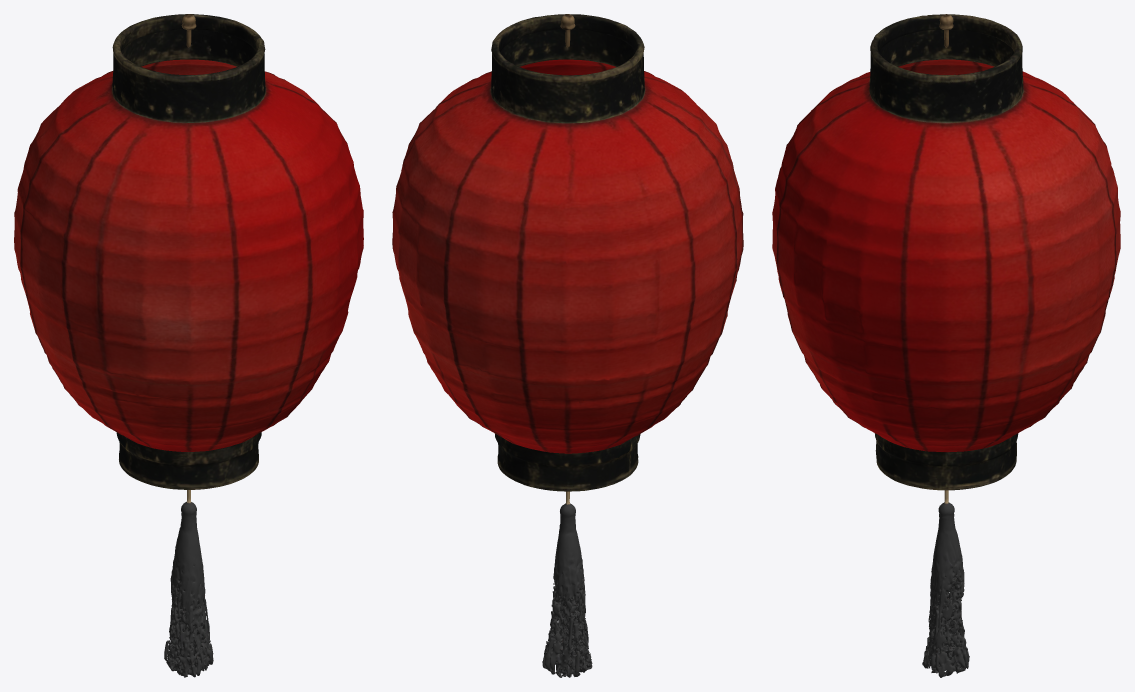
3 views of the same model, side by side, from view 1: azimuth 30°, elevation 25°; view 2: azimuth 150°, elevation 25°; view 3: azimuth 270°, elevation 25° (orthographic).
Parts seen in each view (by area): view 1: geometry_0; view 2: geometry_0; view 3: geometry_0.
Part boxes in pixels (bbox=[...]): geometry_0: bbox=[14, 14, 363, 677]; geometry_0: bbox=[392, 14, 743, 677]; geometry_0: bbox=[772, 14, 1120, 677].
Bounding box in the file's own units: 0.4813 × 0.9995 × 0.4809.
1 material, 1 textured.
